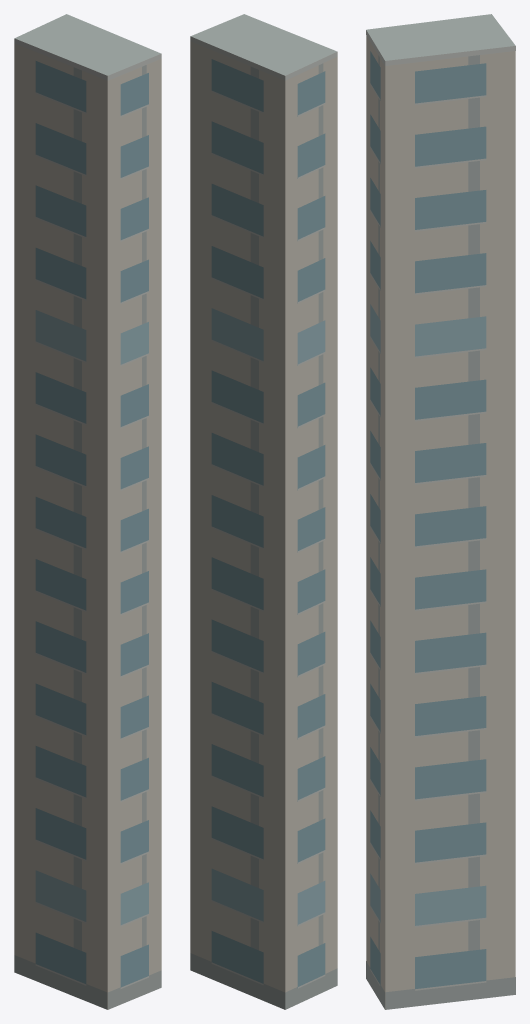
File: survey-upis-32632374.glb
3 renders of one model, left to right at view 1: azimuth 30°, elevation 25°; view 2: azimuth 210°, elevation 25°; view 3: azimuth 270°, elevation 25°, orthographic.
Visible parts, largest first — view 1: survey-upis-32632374.tmp; view 2: survey-upis-32632374.tmp; view 3: survey-upis-32632374.tmp.
Boxes of the visible parts, x1,y1,x2,y2 form: survey-upis-32632374.tmp: (14,14,161,1009); survey-upis-32632374.tmp: (190,14,337,1009); survey-upis-32632374.tmp: (366,14,515,1009).
Size of the model in its own units: 4.86 by 45.75 by 6.55.
